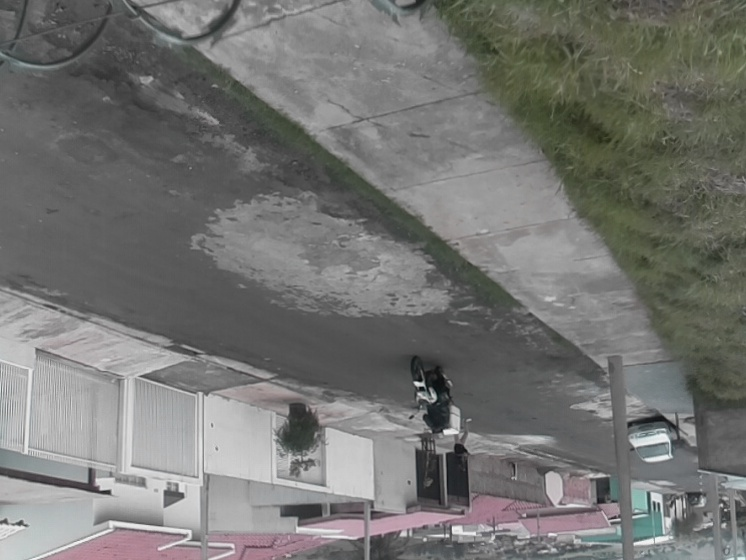person: (424, 364, 449, 443), (447, 416, 474, 476)
